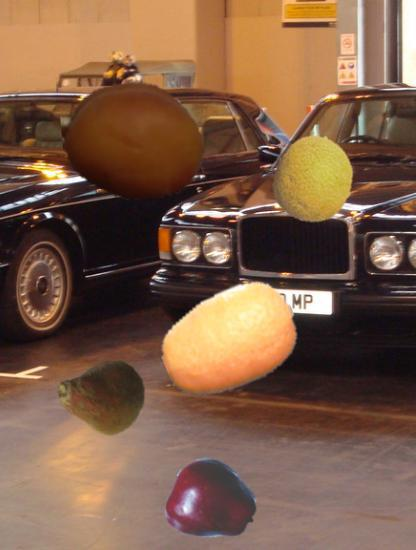Apple: (167, 459, 256, 548)
Apricot: (63, 71, 204, 212)
Cantaloupe: (271, 135, 360, 224)
Kumquats: (160, 271, 300, 411)
Potato: (59, 348, 147, 436)
